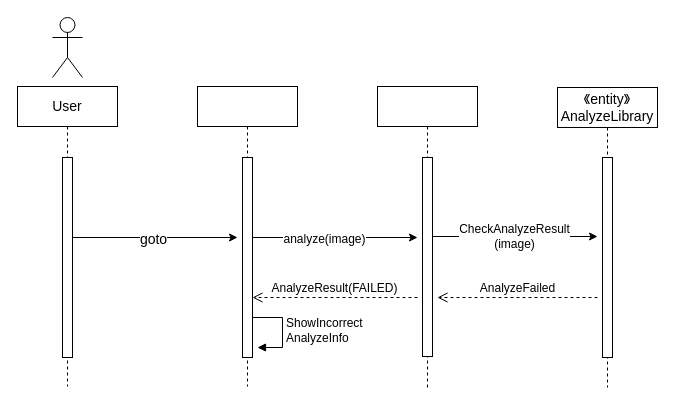
Some shapes in this 675 by 405 pixel diagram are drawn without their labels. Each missing label, with the box of its shape:
《boundary》Analyze UI: (196, 86, 298, 386)
《controller》Analyze Manager: (376, 86, 478, 388)
